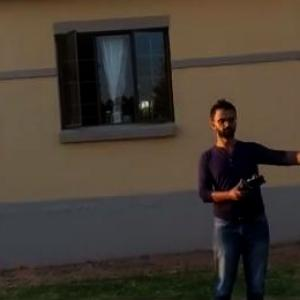follow: (192, 92, 300, 299)
